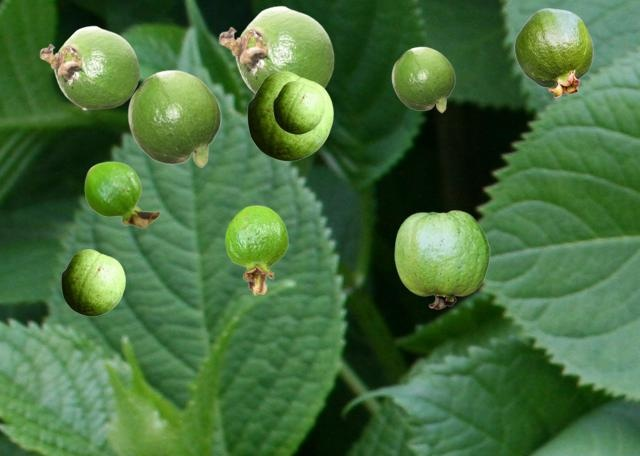guava: (218, 5, 334, 93), (394, 210, 489, 308), (127, 69, 220, 167), (39, 25, 139, 109), (247, 71, 332, 160), (514, 8, 592, 97), (225, 205, 287, 294), (84, 161, 159, 227), (61, 249, 124, 315), (391, 46, 454, 112), (273, 81, 323, 133)
